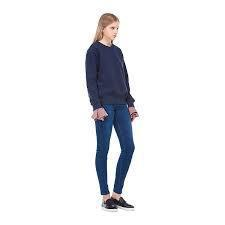pants: (92, 102, 136, 197)
sweater: (85, 39, 133, 111)
